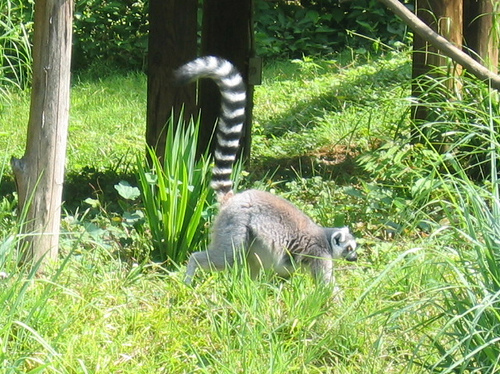cat: (172, 55, 359, 299)
